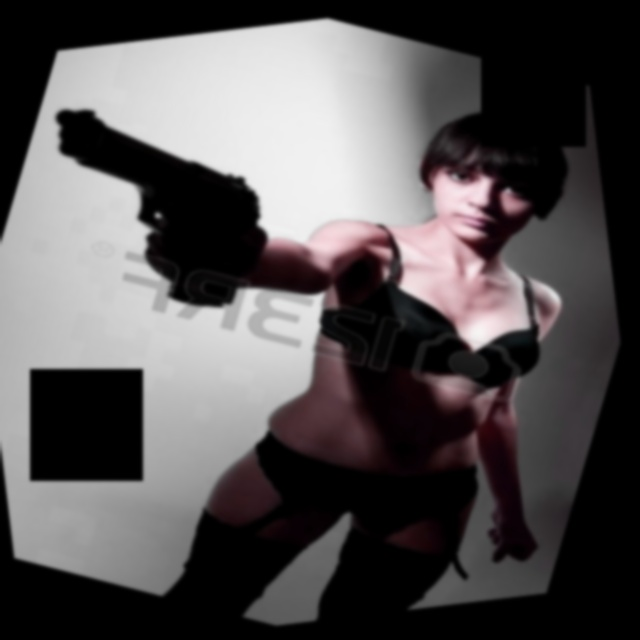gun: (0, 61, 343, 358)
